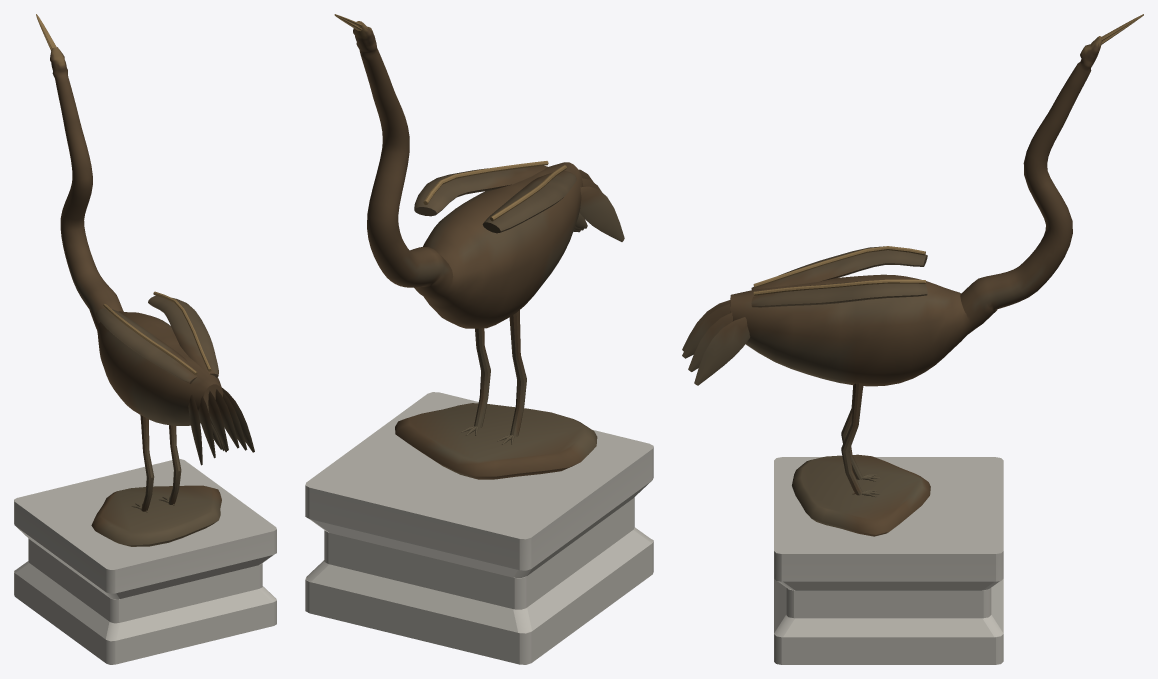
The model's file is tonghe-v3.glb.
3 renders of one model, left to right at view 1: azimuth 30°, elevation 25°; view 2: azimuth 150°, elevation 25°; view 3: azimuth 270°, elevation 25°, orthographic. The views are drawn at different scales.
Visible parts, largest first — view 1: xumizuo, he_shen, he_chi, tongdi, he_tui, he_chiyuan; view 2: xumizuo, he_shen, tongdi, he_chi, he_tui, he_chiyuan; view 3: xumizuo, he_shen, he_chi, tongdi, he_chiyuan, he_tui.
Part boxes in pixels (x1=…): xumizuo: x1=14, y1=459, x2=276, y2=664; he_shen: x1=50, y1=47, x2=223, y2=425; he_chi: x1=96, y1=295, x2=254, y2=465; tongdi: x1=91, y1=485, x2=221, y2=546; he_tui: x1=131, y1=415, x2=181, y2=512; he_chiyuan: x1=103, y1=291, x2=211, y2=375; xumizuo: x1=305, y1=392, x2=653, y2=664; he_shen: x1=353, y1=21, x2=583, y2=328; tongdi: x1=395, y1=403, x2=597, y2=479; he_chi: x1=414, y1=165, x2=624, y2=241; he_tui: x1=461, y1=310, x2=526, y2=444; he_chiyuan: x1=423, y1=161, x2=566, y2=221; xumizuo: x1=774, y1=457, x2=1003, y2=664; he_shen: x1=730, y1=36, x2=1102, y2=386; he_chi: x1=682, y1=246, x2=927, y2=385; tongdi: x1=792, y1=454, x2=930, y2=536; he_chiyuan: x1=753, y1=246, x2=925, y2=295; he_tui: x1=841, y1=383, x2=880, y2=496.
Size of the model in its own units: 0.75 by 2.17 by 1.51.
